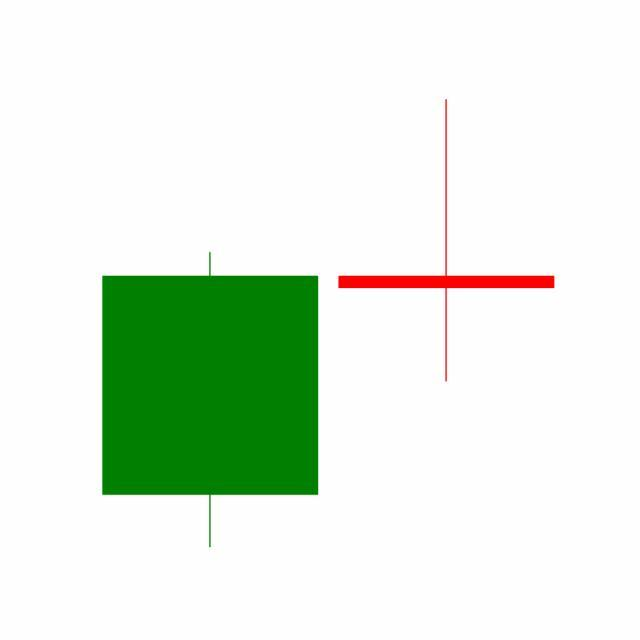Spinning Top: (328, 96, 566, 385)
